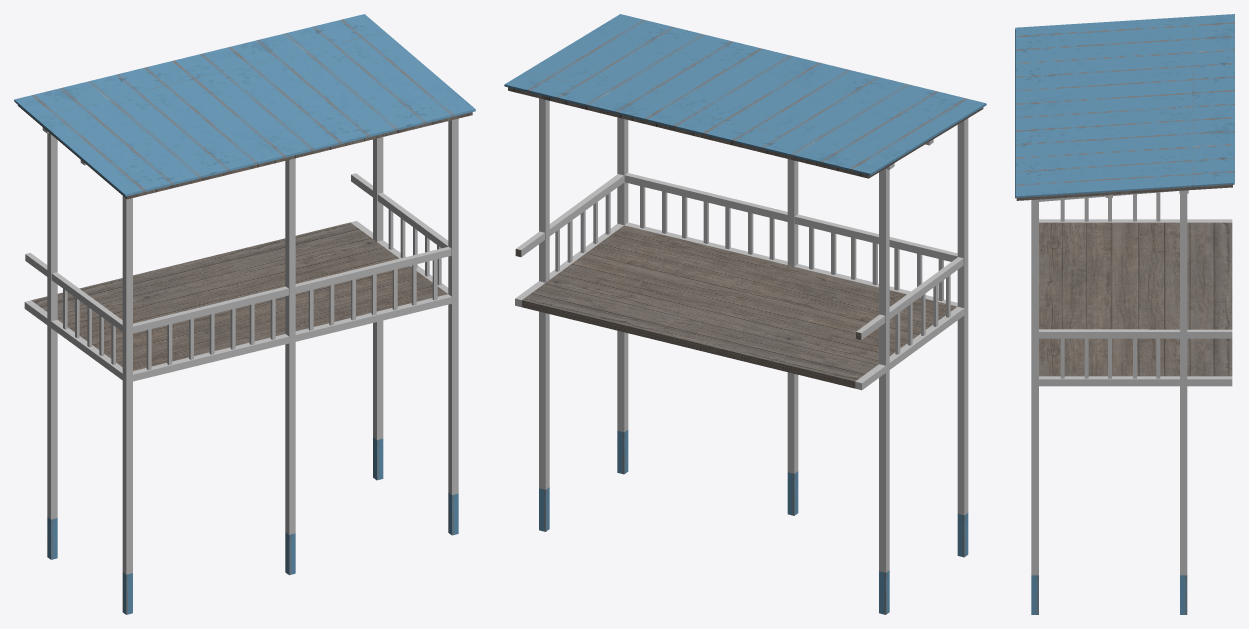
The model's file is JpHouse_barcony10a.fbx.
3 views of the same model, side by side, from view 1: azimuth 30°, elevation 25°; view 2: azimuth 150°, elevation 25°; view 3: azimuth 270°, elevation 25° (orthographic). The views are drawn at different scales.
Visible parts, largest first — view 1: JpHouse_barcony10a; view 2: JpHouse_barcony10a; view 3: JpHouse_barcony10a.
Part boxes in pixels (x1=…): JpHouse_barcony10a: x1=14, y1=14, x2=475, y2=614; JpHouse_barcony10a: x1=504, y1=14, x2=986, y2=614; JpHouse_barcony10a: x1=1015, y1=14, x2=1234, y2=614.
Bounding box in the file's own units: 5.38 × 6.49 × 2.96.
